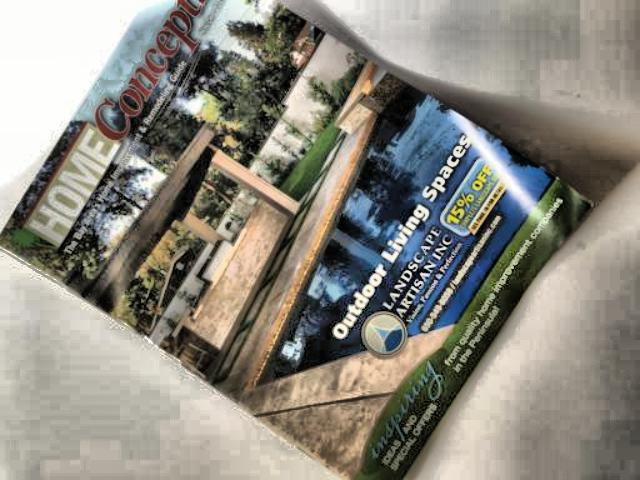Paper: (0, 0, 591, 480)
